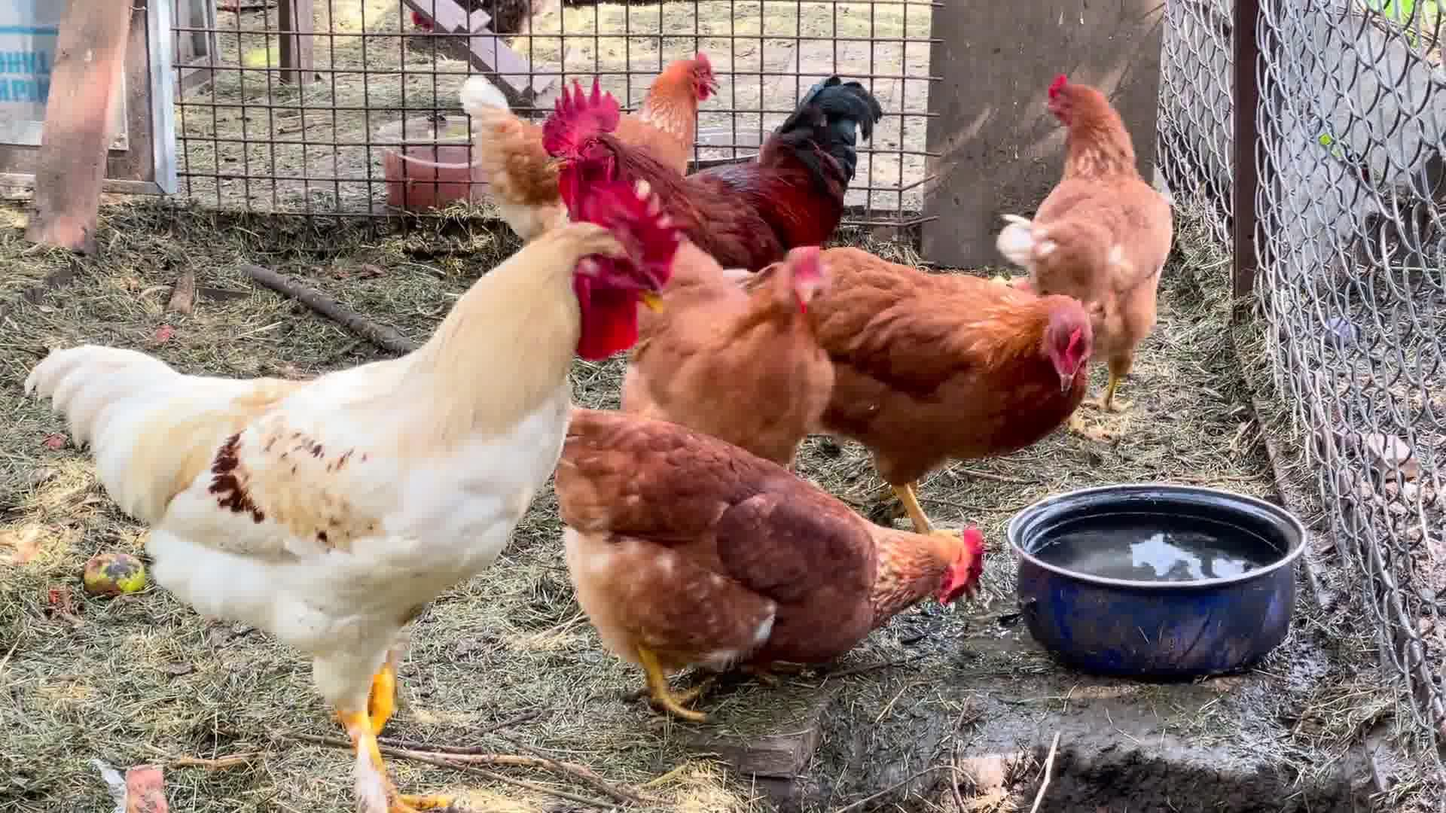Normal: (38, 155, 661, 813), (577, 397, 1004, 733), (780, 219, 1143, 538), (582, 157, 858, 476), (1013, 70, 1207, 443), (571, 104, 905, 304), (467, 53, 733, 237)
